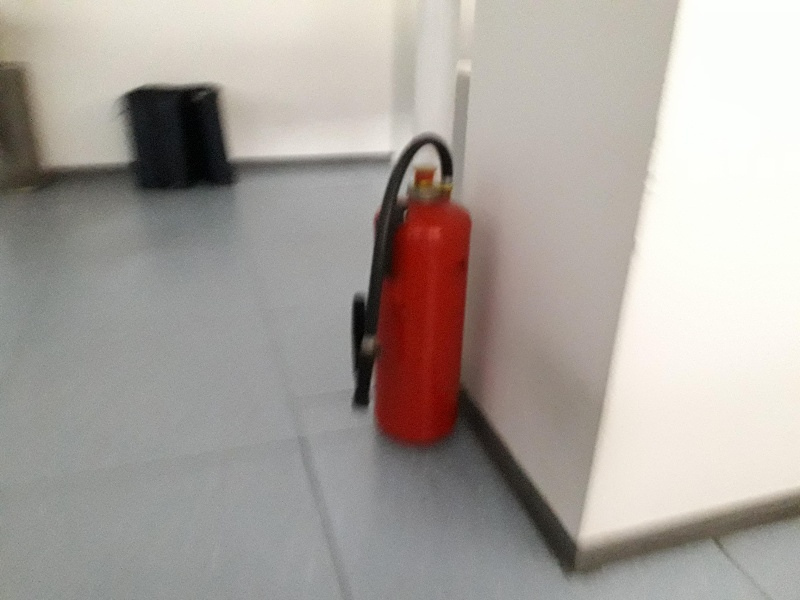vataparat: (353, 136, 471, 441)
